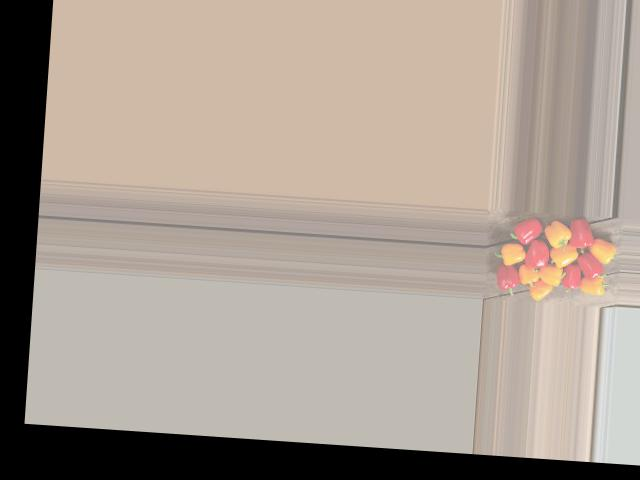bell_pepper: (581, 232, 618, 265)
